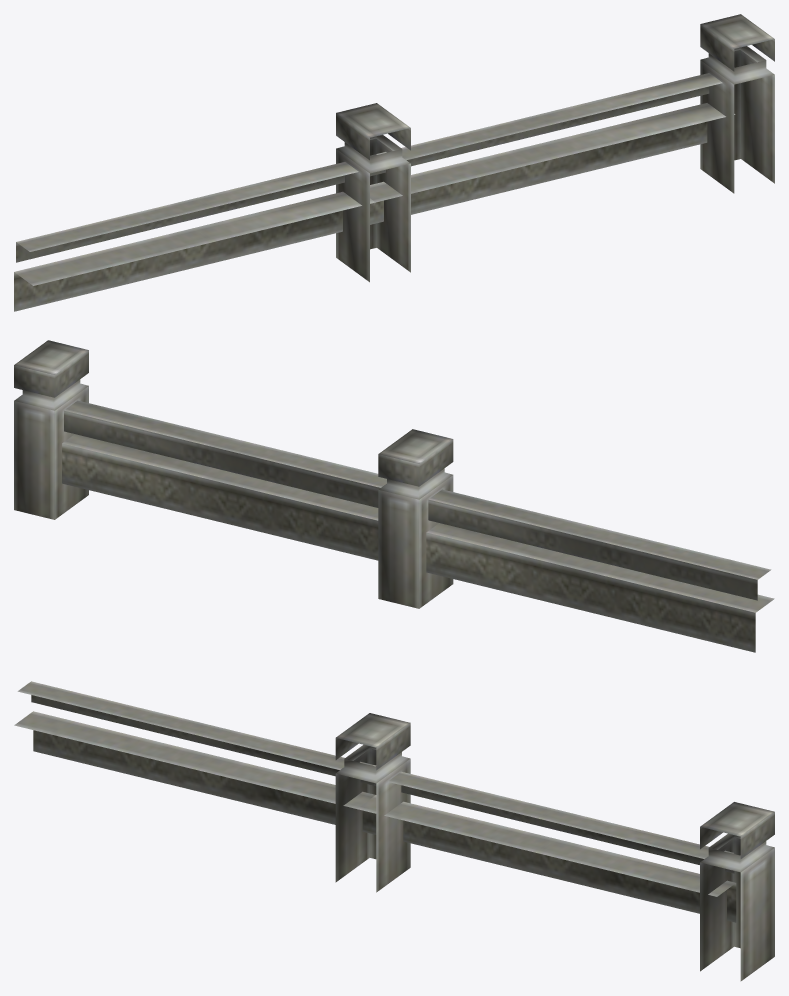
The model's file is S2_Build_XSC034_L1.FBX.
3 renders of one model, top to bottom at view 1: azimuth 30°, elevation 25°; view 2: azimuth 150°, elevation 25°; view 3: azimuth 330°, elevation 25°, orthographic.
Parts seen in each view (by area): view 1: S2_Build_XSC034_L1; view 2: S2_Build_XSC034_L1; view 3: S2_Build_XSC034_L1.
Part boxes in pixels (x1,y1,x2,y2): S2_Build_XSC034_L1: (14,14,774,311); S2_Build_XSC034_L1: (14,340,774,652); S2_Build_XSC034_L1: (14,681,774,981).
Size of the model in its own units: 1712 by 323 by 138.
